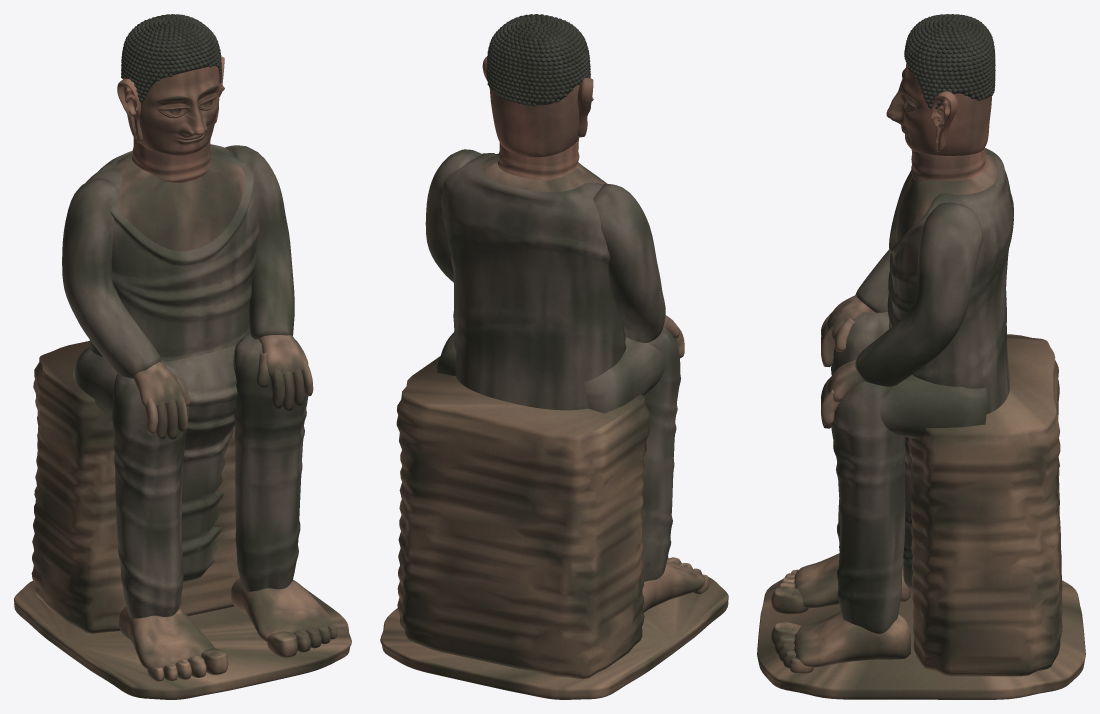
File: leshan_buddha.glb
The picture shows the model from 3 angles, left to right: view 1: azimuth 30°, elevation 25°; view 2: azimuth 150°, elevation 25°; view 3: azimuth 270°, elevation 25°; orthographic projection. The views are drawn at different scales.
Visible parts, largest first — view 1: Hewn seat-col, Monastic robe and collar-col, Robed shin and knee_L-col, Robed shin and knee_R-col, Waterside ledge-col, Sleeve_R-col, Drapery between the legs-col, Chest beneath collar, Sleeve_L-col, Face • carved Maitreya, Rows of spiral hair bosses, Instep_L-col (+8 smaller); view 2: Hewn seat-col, Monastic robe and collar-col, Waterside ledge-col, Rows of spiral hair bosses, Sleeve_R-col, Robed shin and knee_R-col, Face • carved Maitreya, Seated thigh_R-col, Sleeve_L-col, Neck, Chest beneath collar, Instep_R-col (+3 smaller); view 3: Hewn seat-col, Robed shin and knee_L-col, Monastic robe and collar-col, Waterside ledge-col, Sleeve_L-col, Rows of spiral hair bosses, Seated thigh_L-col, Face • carved Maitreya, Instep_L-col, Chest beneath collar, Instep_R-col, Neck (+8 smaller).
Part boxes in pixels (x1,y1,x2,y2): Hewn seat-col: (31,341,239,633); Monastic robe and collar-col: (86,144,259,362); Robed shin and knee_L-col: (234,331,308,591); Robed shin and knee_R-col: (112,360,188,618); Waterside ledge-col: (14,581,351,699); Sleeve_R-col: (62,178,160,378); Drapery between the legs-col: (165,345,237,581); Chest beneath collar: (115,148,245,251); Sleeve_L-col: (225,145,294,339); Face • carved Maitreya: (123,65,219,155); Rows of spiral hair bosses: (121,14,222,102); Instep_L-col: (231,578,332,641); Hewn seat-col: (396,356,649,679); Monastic robe and collar-col: (441,153,626,410); Waterside ledge-col: (380,577,728,699); Rows of spiral hair bosses: (486,14,590,106); Sleeve_R-col: (593,184,665,342); Robed shin and knee_R-col: (641,328,680,581); Face • carved Maitreya: (489,84,579,157); Seated thigh_R-col: (584,337,665,413); Sleeve_L-col: (425,149,482,281); Neck: (498,139,579,179); Chest beneath collar: (481,153,607,192); Instep_R-col: (642,562,705,612); Hewn seat-col: (907,334,1062,676); Robed shin and knee_L-col: (831,381,905,633); Monastic robe and collar-col: (887,148,1013,414); Waterside ledge-col: (757,579,1085,699); Sleeve_L-col: (855,202,982,386); Rows of spiral hair bosses: (904,14,995,108); Seated thigh_L-col: (880,375,987,438); Face • carved Maitreya: (886,62,991,155); Instep_L-col: (794,611,910,667); Chest beneath collar: (895,153,997,242); Instep_R-col: (794,553,910,607); Neck: (911,148,987,181).
Size of the model in its own units: 30.37 by 72.59 by 34.85.
2 materials, 2 textured.
